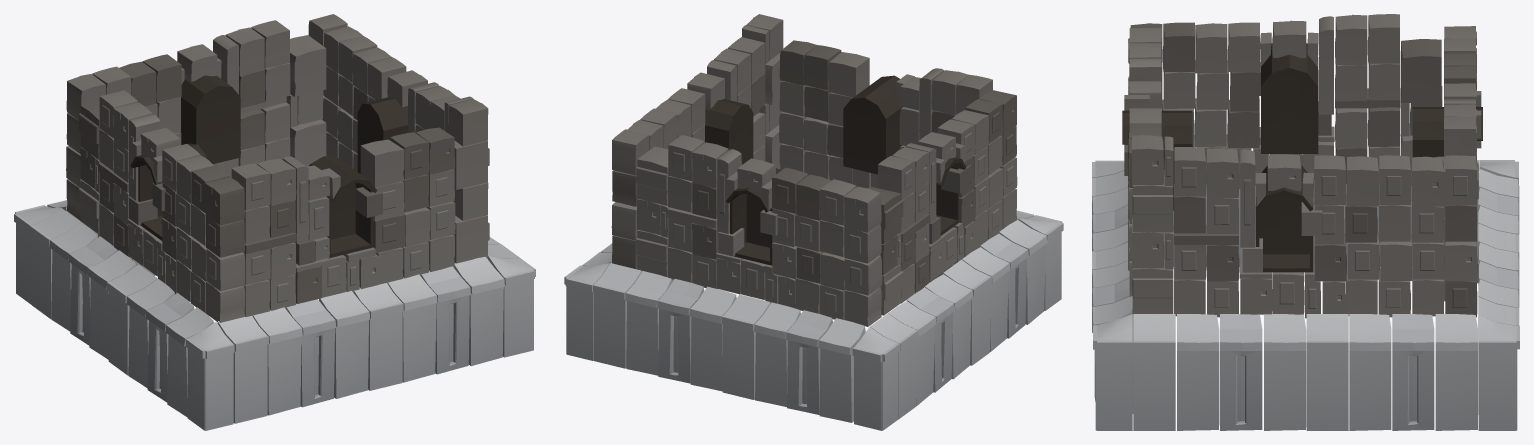
File: monumento 1.fbx
3 renders of one model, left to right at view 1: azimuth 30°, elevation 25°; view 2: azimuth 150°, elevation 25°; view 3: azimuth 270°, elevation 25°, orthographic. The views are drawn at different scales.
Visible parts, largest first — view 1: group51_pCube1270; view 2: group51_pCube1270; view 3: group51_pCube1270.
Boxes of the visible parts, bbox=[...] form: group51_pCube1270: bbox=[14, 14, 535, 430]; group51_pCube1270: bbox=[564, 14, 1063, 430]; group51_pCube1270: bbox=[1092, 14, 1519, 430].
Bounding box in the file's own units: 1952 × 1324 × 1933.
